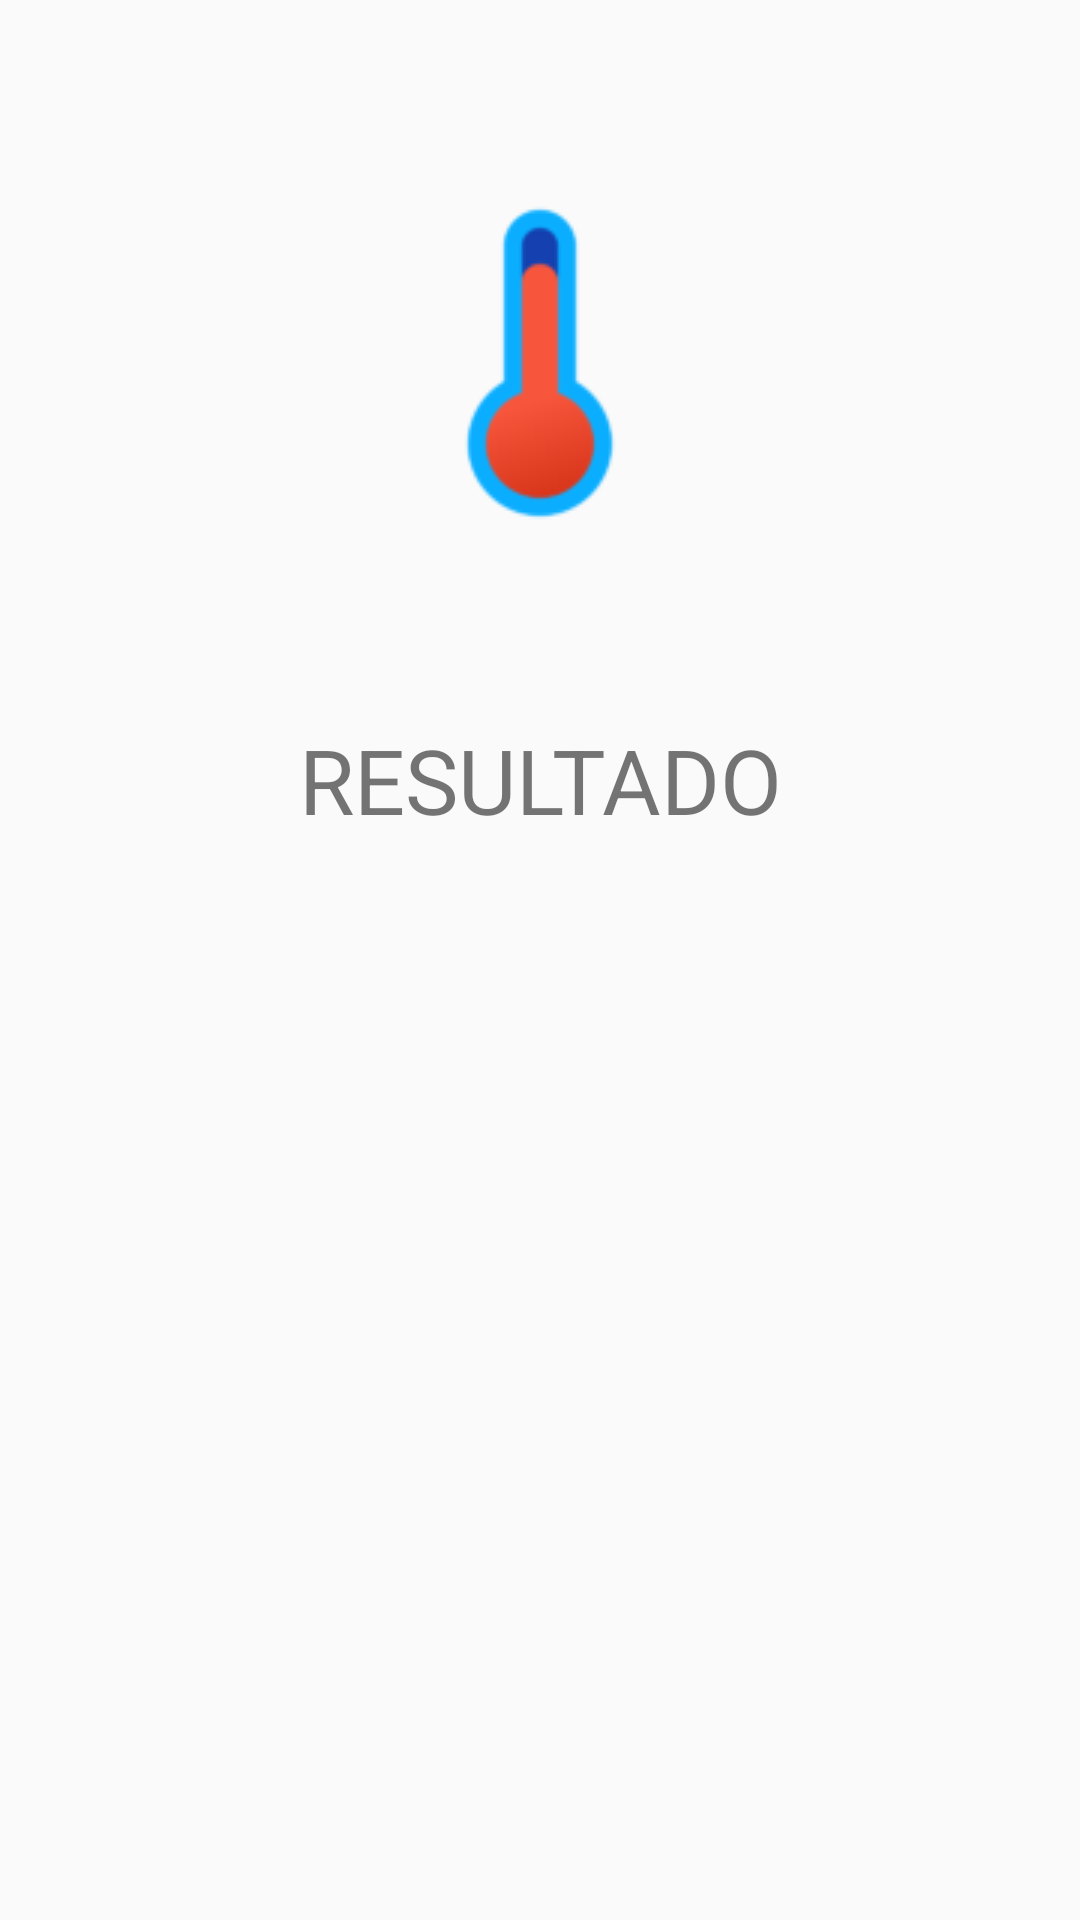

Point at icon controls on the screen. Image size 1080w x 1920h, points as point (x, y).
termometro: point (540, 363)
